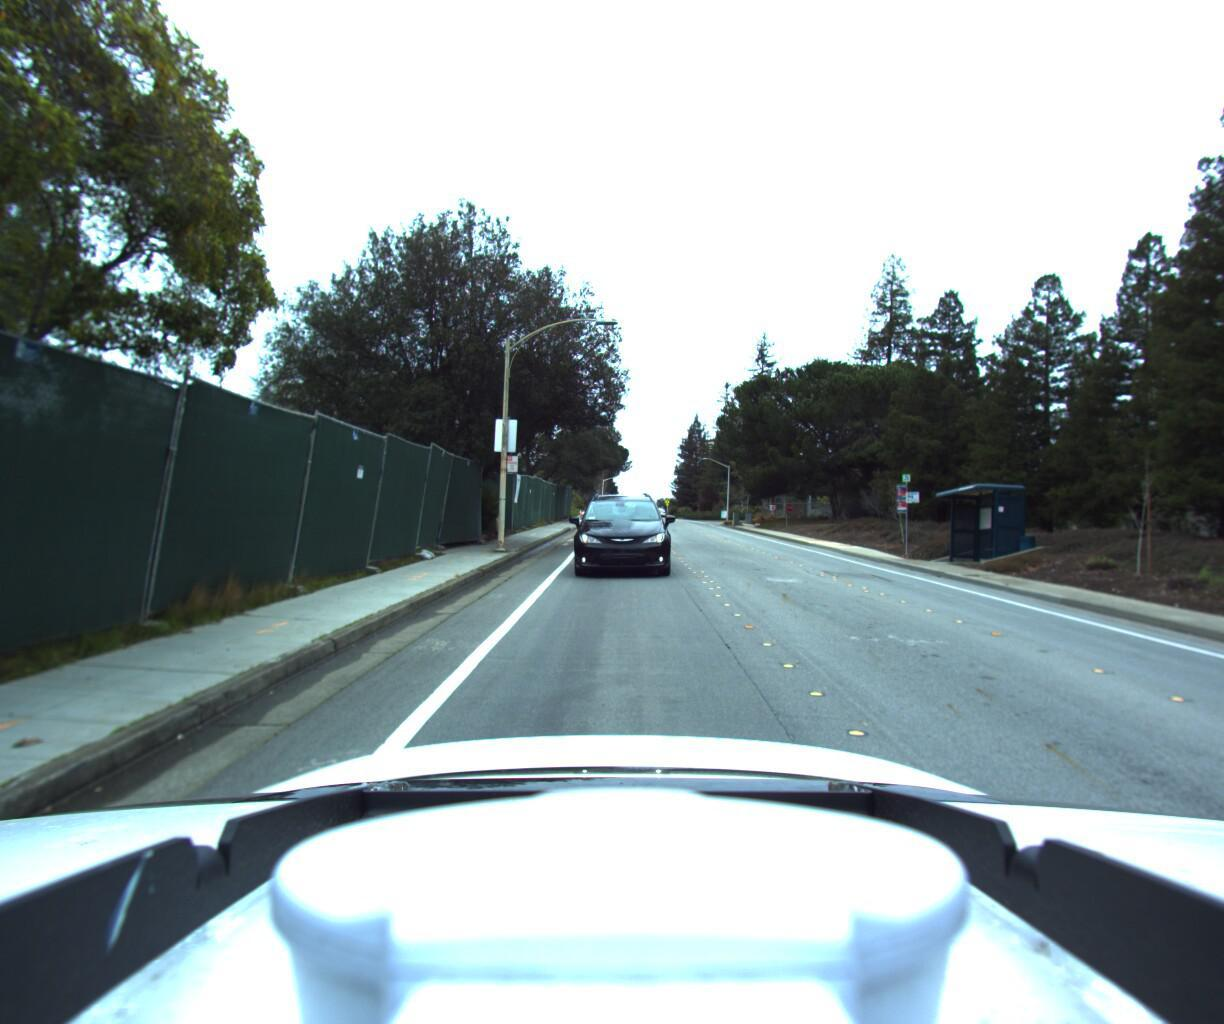car: (567, 478, 675, 583)
